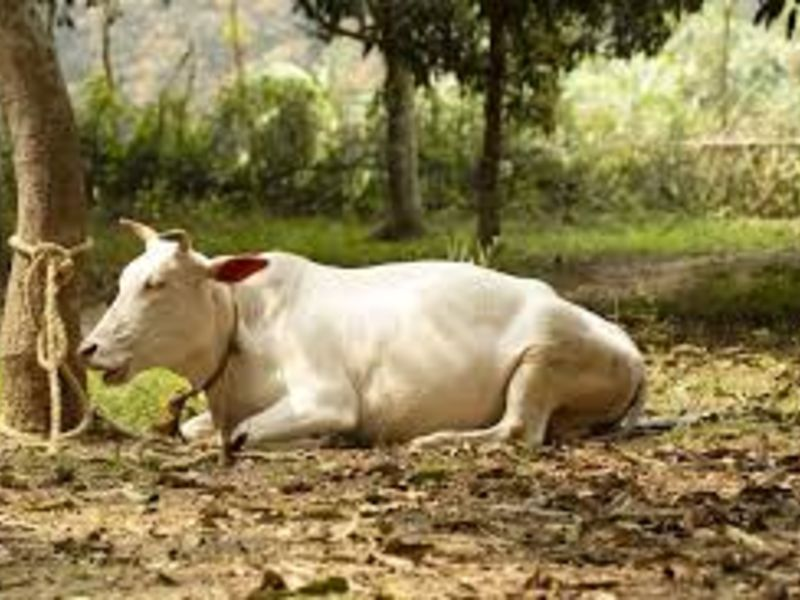cow: (71, 201, 673, 468)
